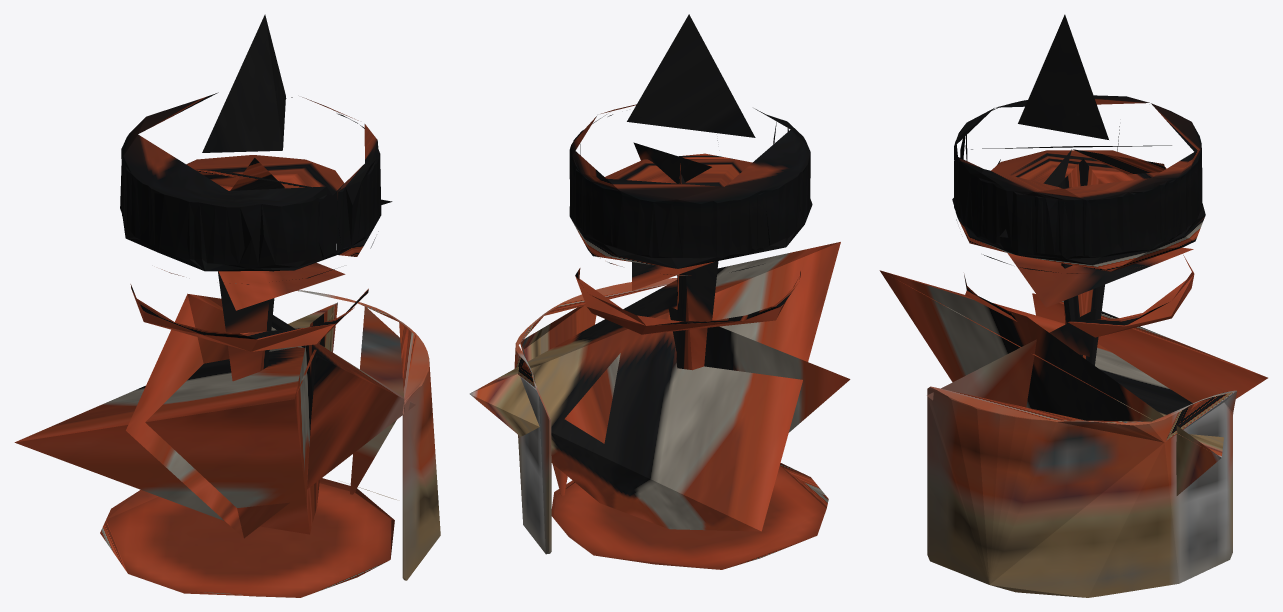
Rendered from paint_container_bottle_orange_a03.glb.
The picture shows the model from 3 angles, left to right: view 1: azimuth 30°, elevation 25°; view 2: azimuth 150°, elevation 25°; view 3: azimuth 270°, elevation 25°; orthographic projection. The views are drawn at different scales.
Visible parts, largest first — view 1: geometry_0; view 2: geometry_0; view 3: geometry_0.
Boxes of the visible parts, bbox=[...] form: geometry_0: bbox=[14, 14, 440, 597]; geometry_0: bbox=[469, 14, 850, 569]; geometry_0: bbox=[879, 14, 1267, 597].
Size of the model in its own units: 0.2598 by 0.42 by 0.2714.
1 material, 1 textured.
